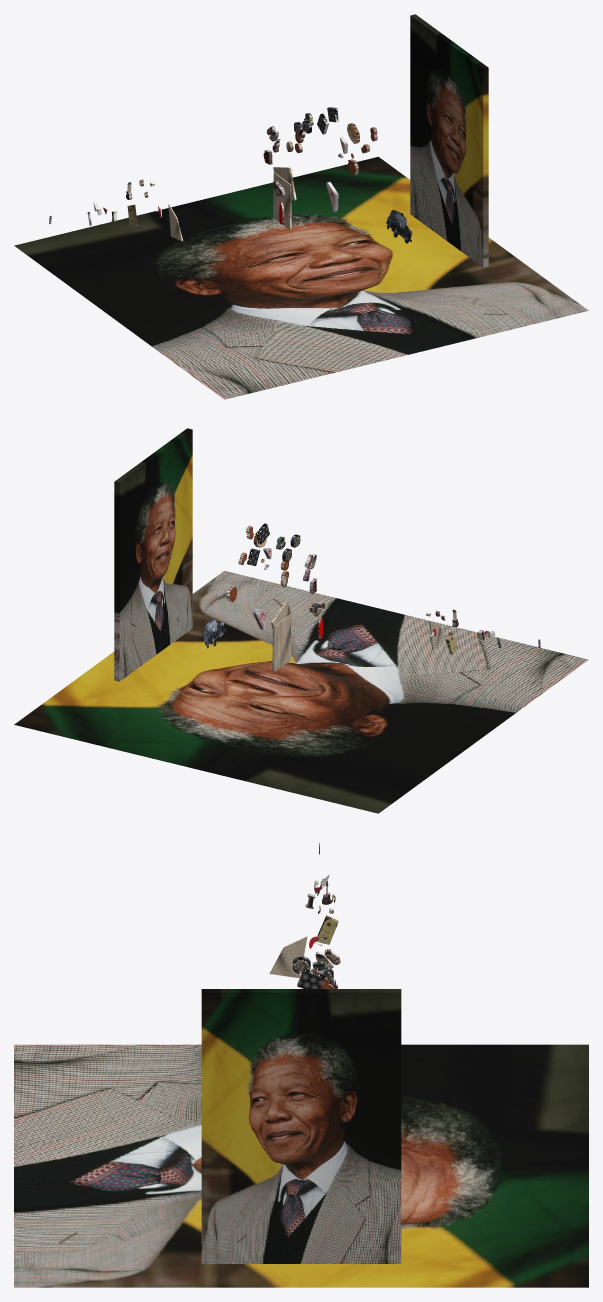
File: ujicoba_prototipe_2_ar.glb
The picture shows the model from 3 angles, top to bottom: view 1: azimuth 30°, elevation 25°; view 2: azimuth 150°, elevation 25°; view 3: azimuth 270°, elevation 25°; orthographic projection. The views are drawn at different scales.
Visible parts, largest first — view 1: Nelson Mandela, Spoonflower Fabric - Brown Abstract Stripes Tan Small Scale , The iconic Black Cab ❤️; view 2: Nelson Mandela, Spoonflower Fabric - Brown Abstract Stripes Tan Small Scale ; view 3: Nelson Mandela, Spoonflower Fabric - Brown Abstract Stripes Tan Small Scale .
Part boxes in pixels (box(x1,y1,x2,y2)): Nelson Mandela: box(14, 14, 588, 399); Spoonflower Fabric - Brown Abstract Stripes Tan Small Scale : box(273, 172, 291, 229); The iconic Black Cab ❤️: box(386, 210, 412, 243); Nelson Mandela: box(14, 428, 588, 813); Spoonflower Fabric - Brown Abstract Stripes Tan Small Scale : box(272, 614, 291, 671); Nelson Mandela: box(14, 989, 588, 1287); Spoonflower Fabric - Brown Abstract Stripes Tan Small Scale : box(269, 936, 307, 978).
Bounding box in the file's own units: 11.29 × 5.05 × 9.62.
Materials: 24 (24 with a texture image).
